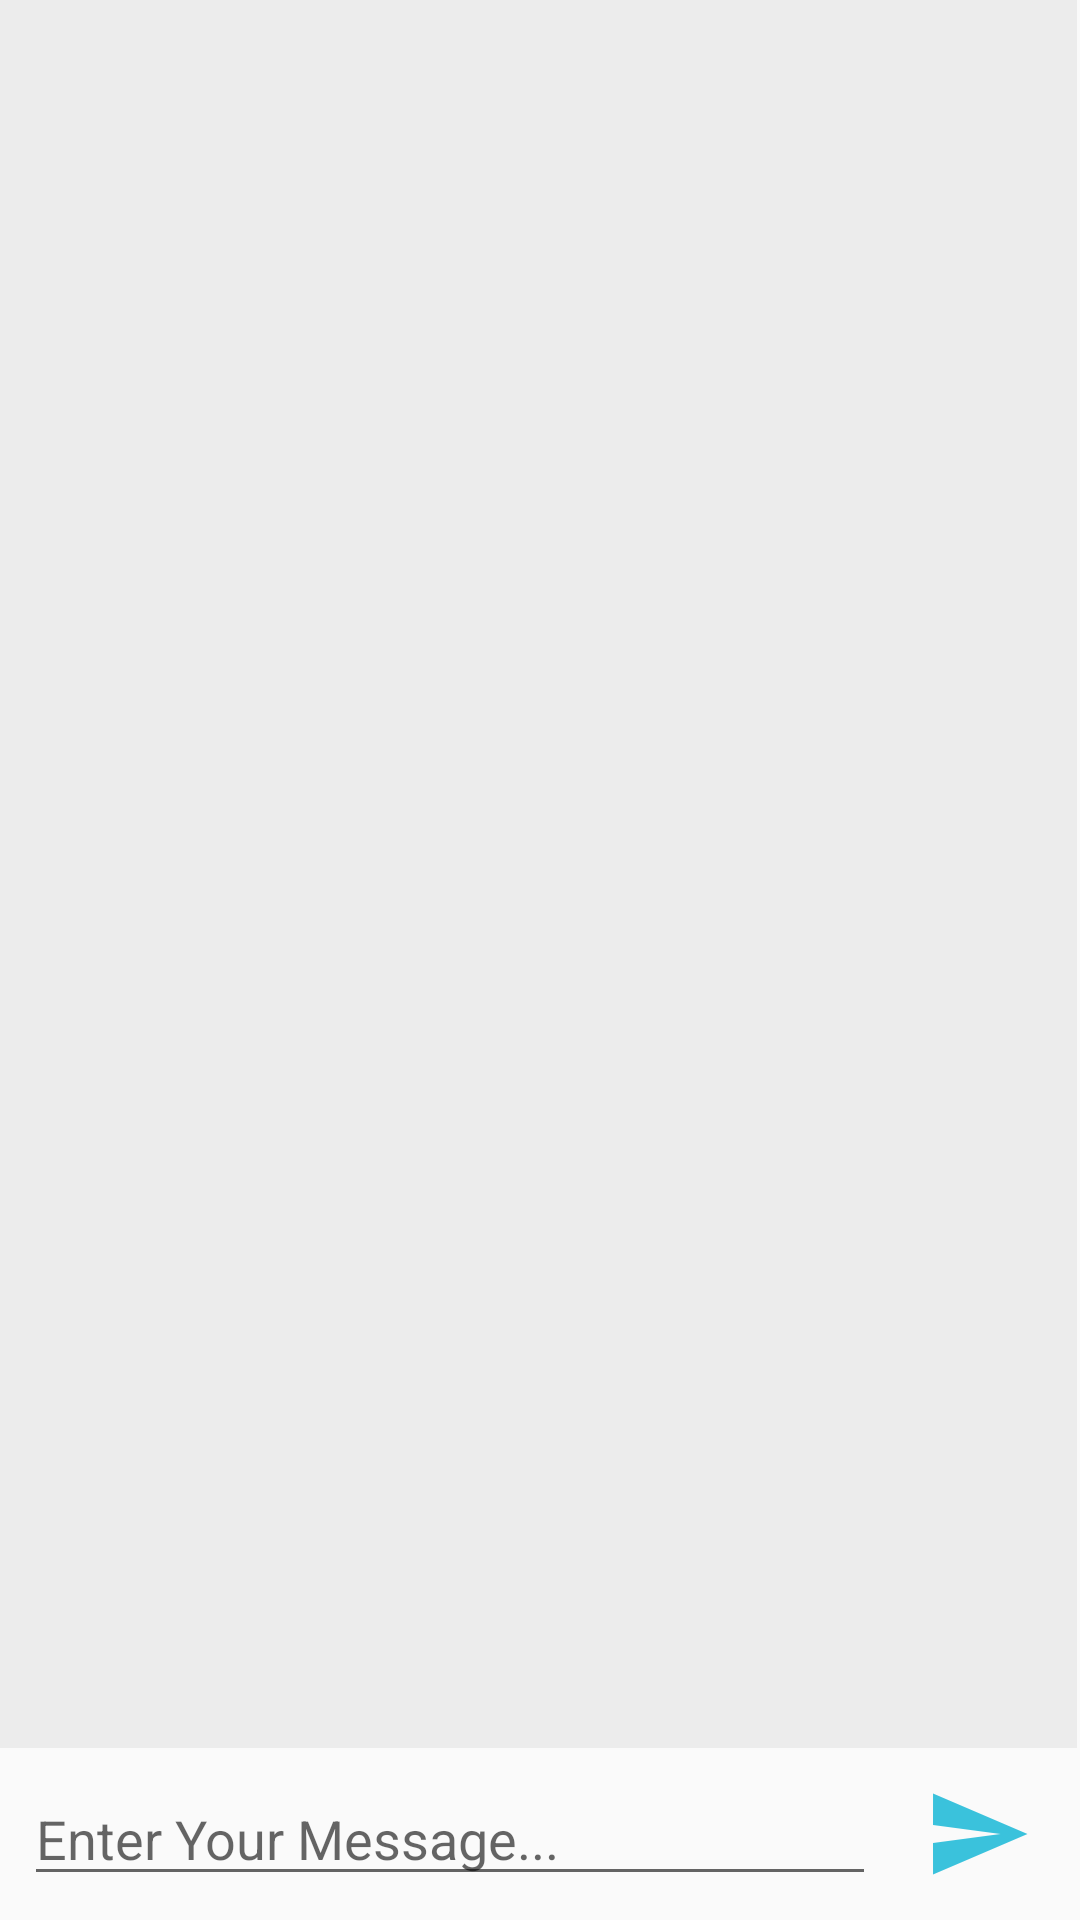

Locate icon controls on the screen. Image size 1080*1920, boxes as bbox(x1, y1, x2, y2).
send: bbox(933, 1793, 1027, 1875)
